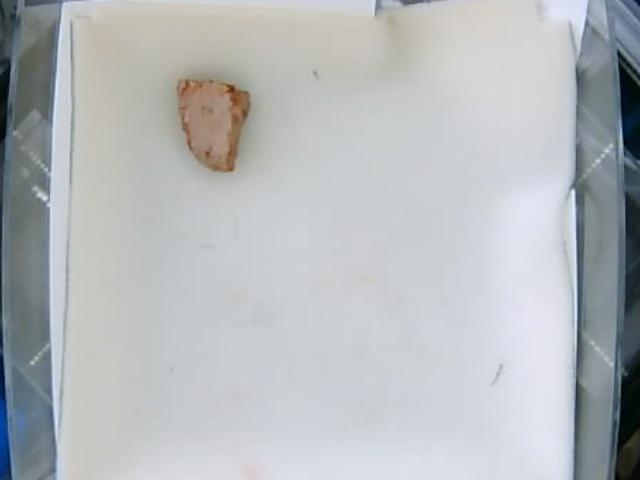Brisk: (176, 74, 252, 173)
